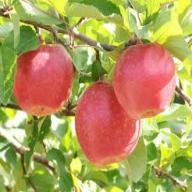apple: (74, 84, 144, 170), (114, 43, 177, 118), (13, 45, 72, 115)
